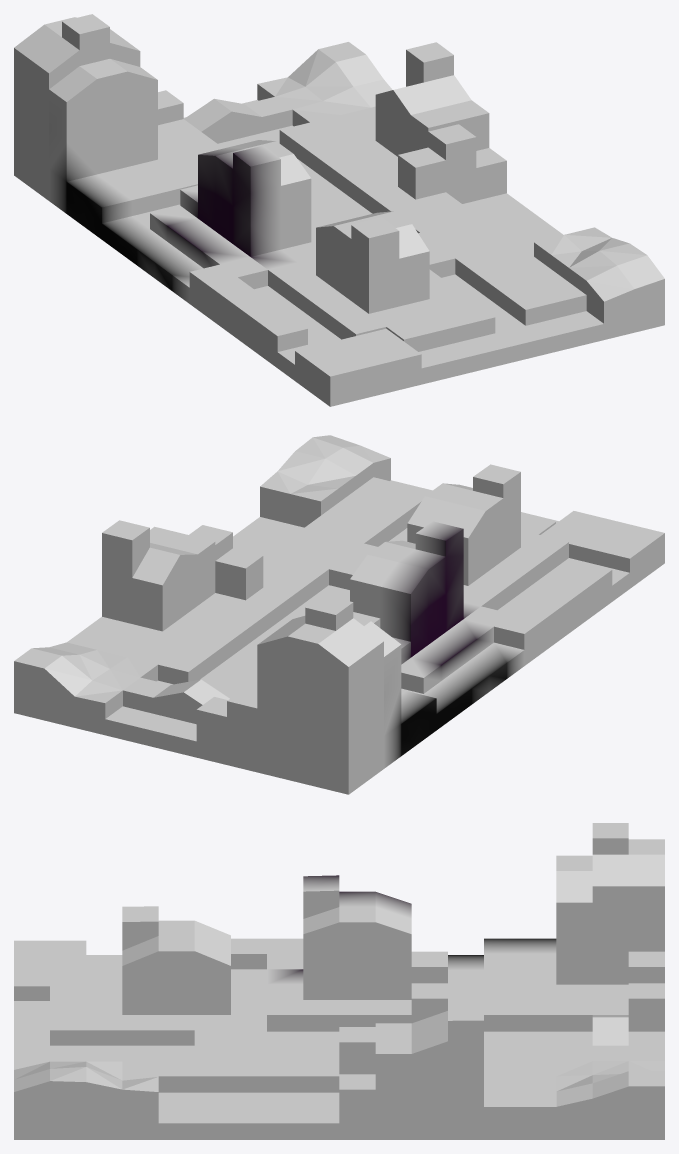
The model's file is gariland.fbx.
3 views of the same model, one above another, from view 1: azimuth 30°, elevation 25°; view 2: azimuth 150°, elevation 25°; view 3: azimuth 270°, elevation 25° (orthographic). The views are drawn at different scales.
Visible parts, largest first — view 1: Grid; view 2: Grid; view 3: Grid.
Part boxes in pixels (x1,y1,x2,y2): Grid: (14, 14, 664, 406); Grid: (14, 435, 664, 794); Grid: (14, 823, 664, 1139).
Bounding box in the file's own units: 2.2 × 1 × 3.6.
